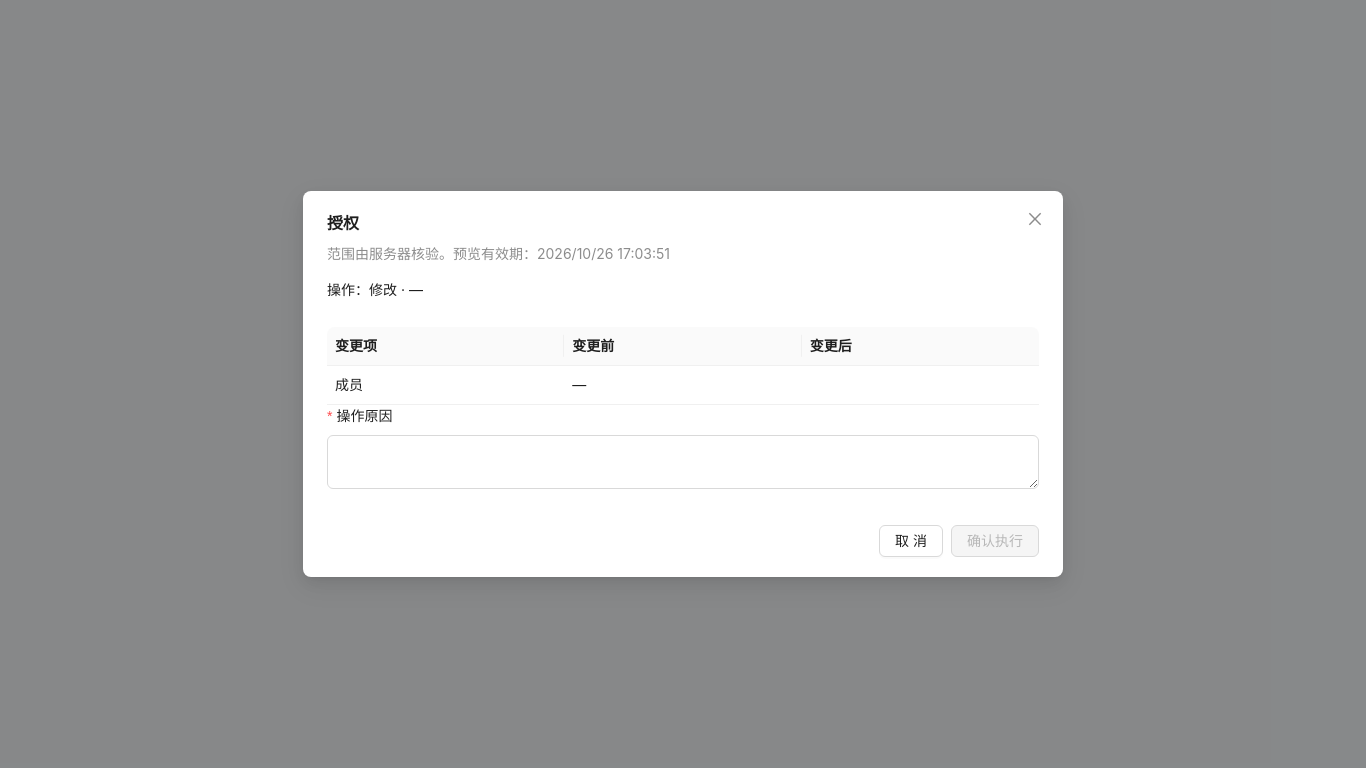
pending execution cannot be cancelled or closed and shows its result
Expected: the text "范围由服务器核验。预览有效期：2026/10/26 17:03:51" is shown, [327, 245, 670, 262]
Step 1. Type "update" into the text box named "操作原因" → (683, 462), box [327, 435, 1039, 489]
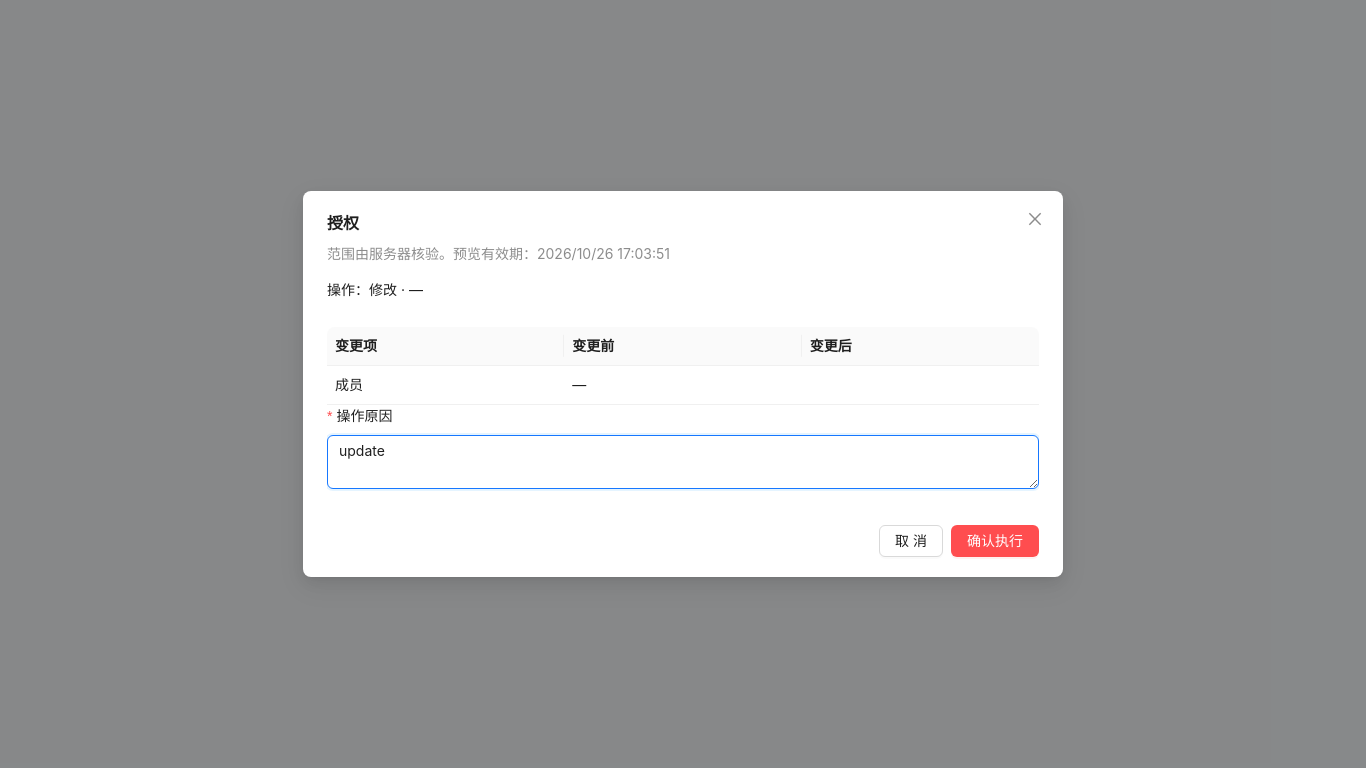
Step 2. Click the button "确认执行" → (995, 541), box [951, 525, 1039, 557]
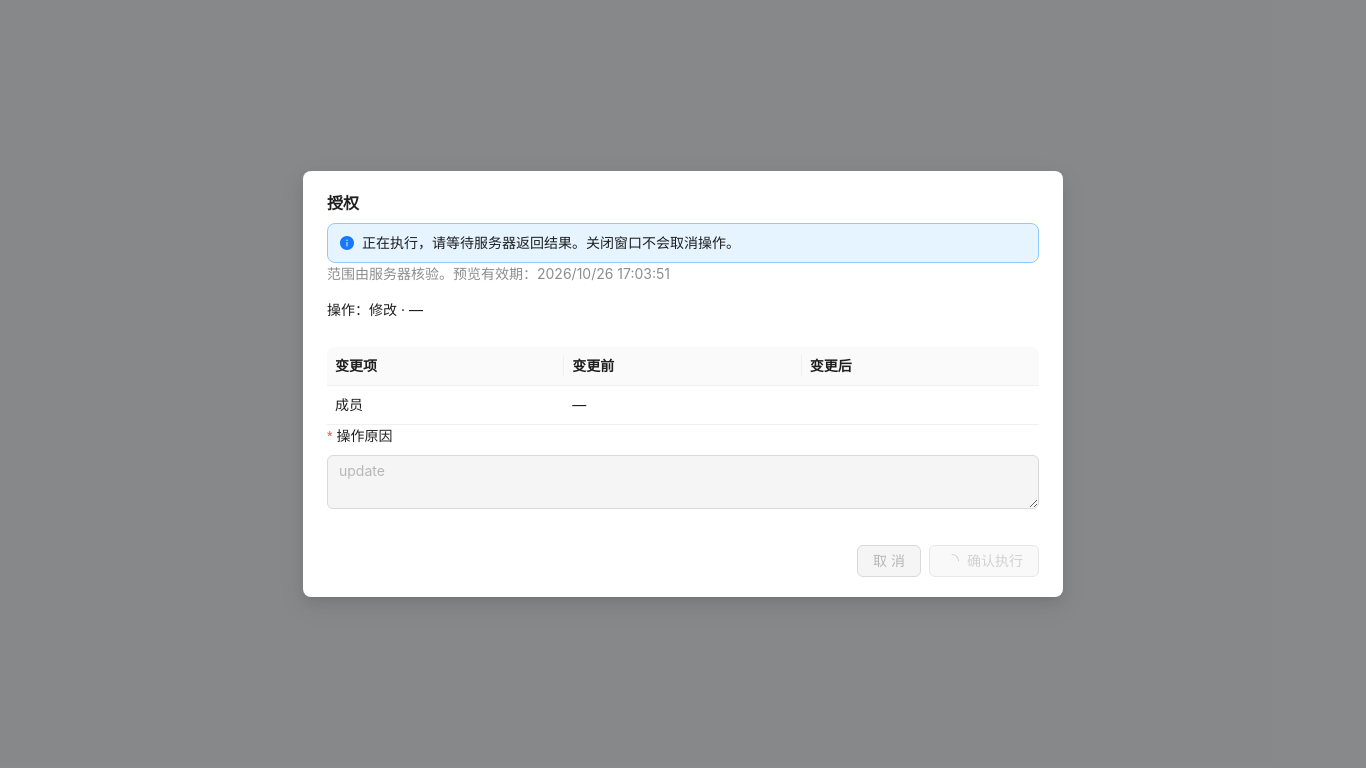
Now the button "取 消" is disabled, box [857, 545, 921, 577]
Now the icon "Close" is gone
Step 3. Press Escape
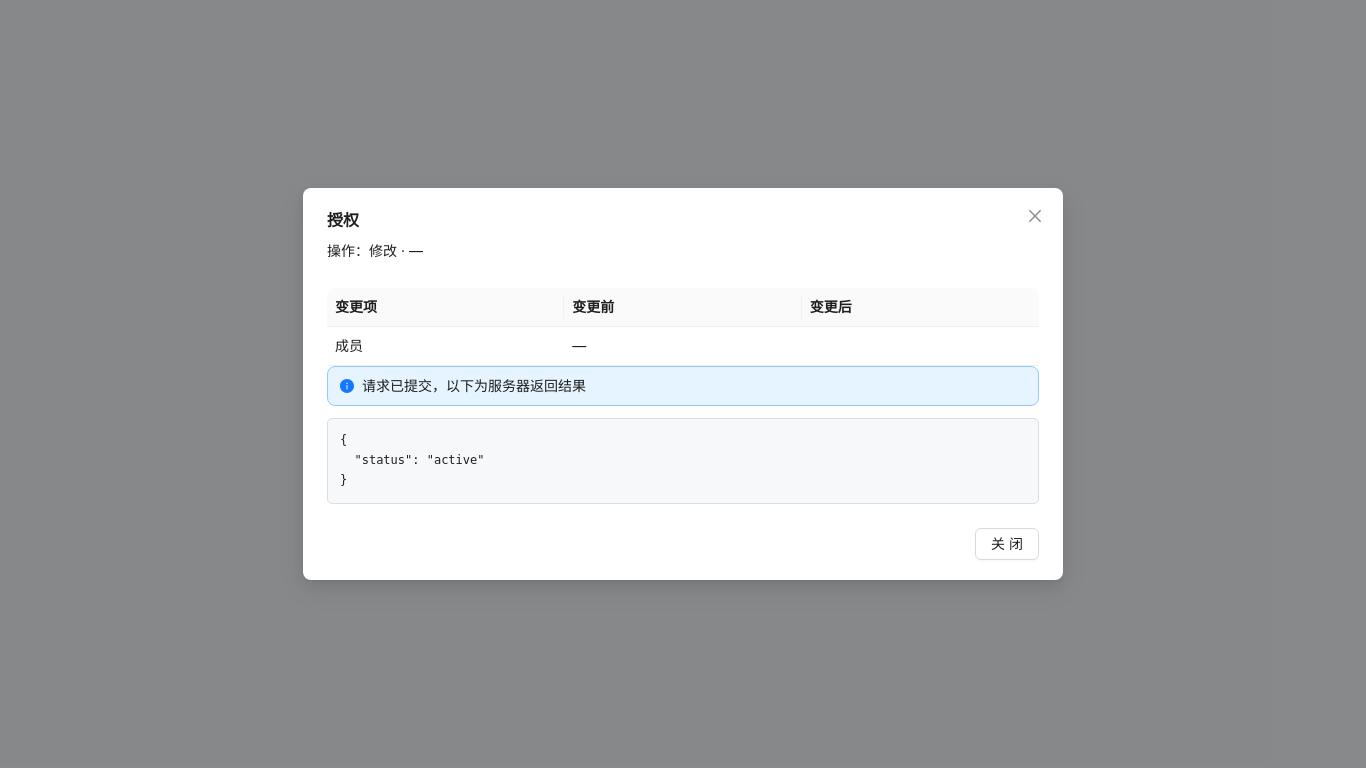
Now the text "请求已提交，以下为服务器返回结果" is shown, box [362, 377, 586, 394]
